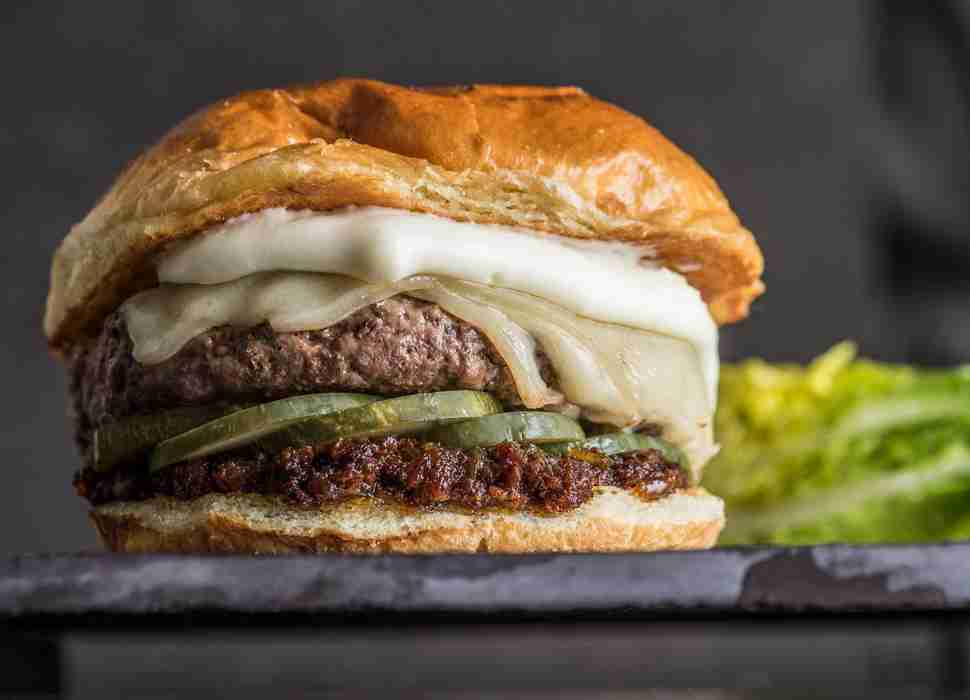hamburger: (34, 81, 798, 563)
